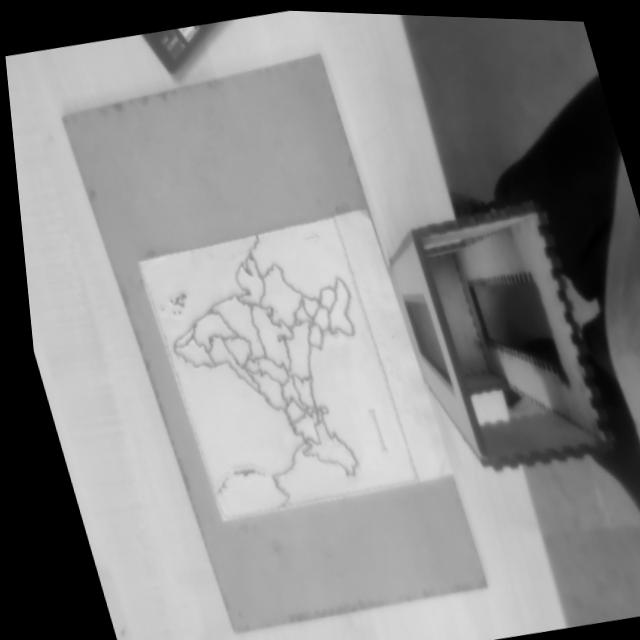map: (138, 202, 418, 543)
